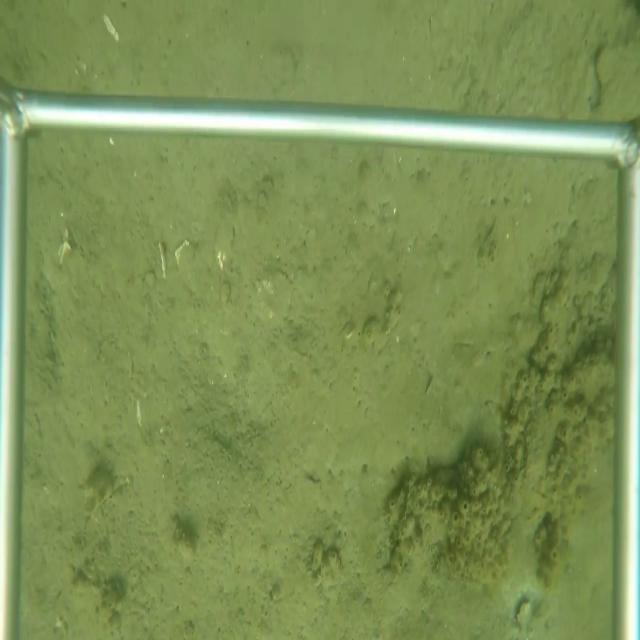Oyster-Closed: (395, 475, 415, 531)
Oyster-Indeterminate: (510, 599, 535, 636)
